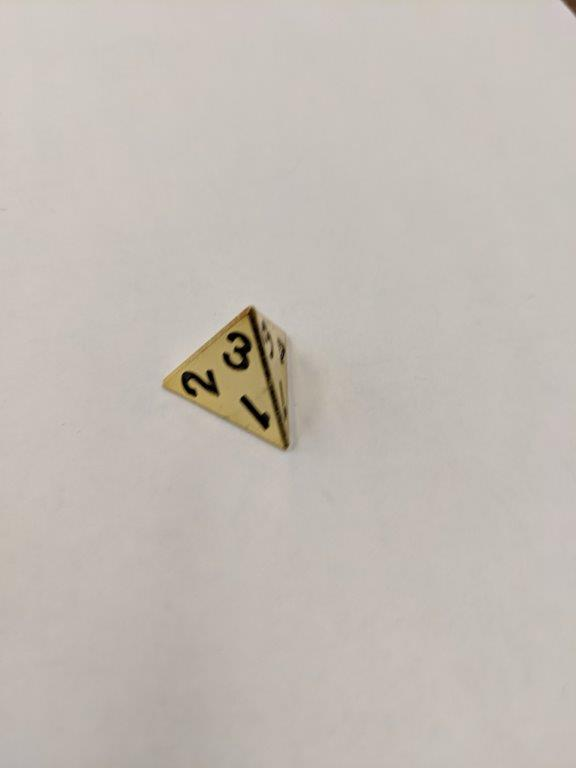d4-3: (156, 301, 298, 461)
